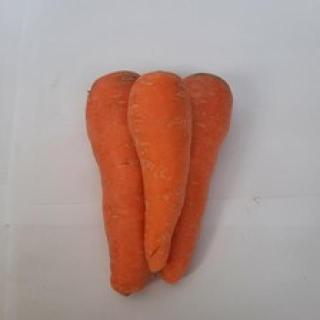carrot: (85, 69, 157, 295), (160, 73, 234, 281), (130, 70, 194, 274)
